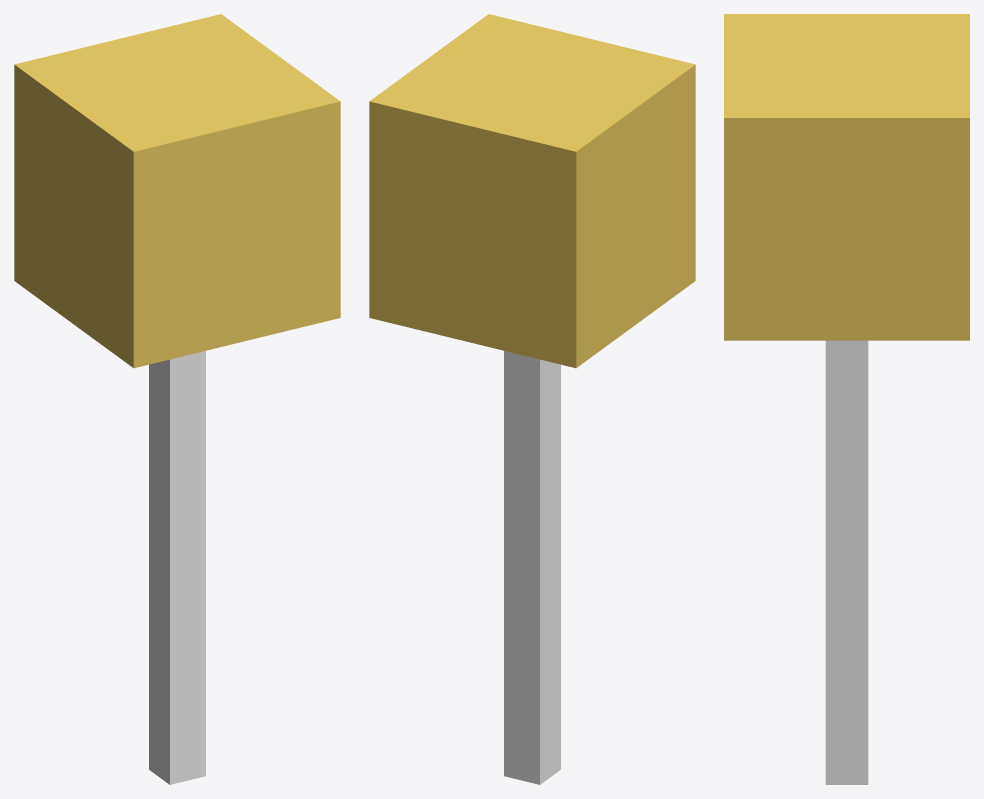
Rendered from CandylandLollypop_03.fbx.
The picture shows the model from 3 angles, left to right: view 1: azimuth 30°, elevation 25°; view 2: azimuth 150°, elevation 25°; view 3: azimuth 270°, elevation 25°; orthographic projection. The views are drawn at different scales.
Visible parts, largest first — view 1: CandylandLollypop_03; view 2: CandylandLollypop_03; view 3: CandylandLollypop_03.
Part boxes in pixels (left/top/right/bottom): CandylandLollypop_03: left=14, top=14, right=340, bottom=784; CandylandLollypop_03: left=369, top=14, right=695, bottom=784; CandylandLollypop_03: left=724, top=14, right=969, bottom=784.
Bounding box in the file's own units: 0.2013 × 0.6416 × 0.2013.
